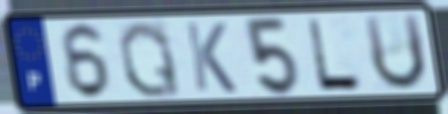5: (239, 13, 304, 98)
6: (58, 20, 115, 102)
K: (182, 20, 239, 95)
L: (304, 16, 366, 92)
Q: (116, 18, 185, 101)
U: (360, 11, 430, 94)
